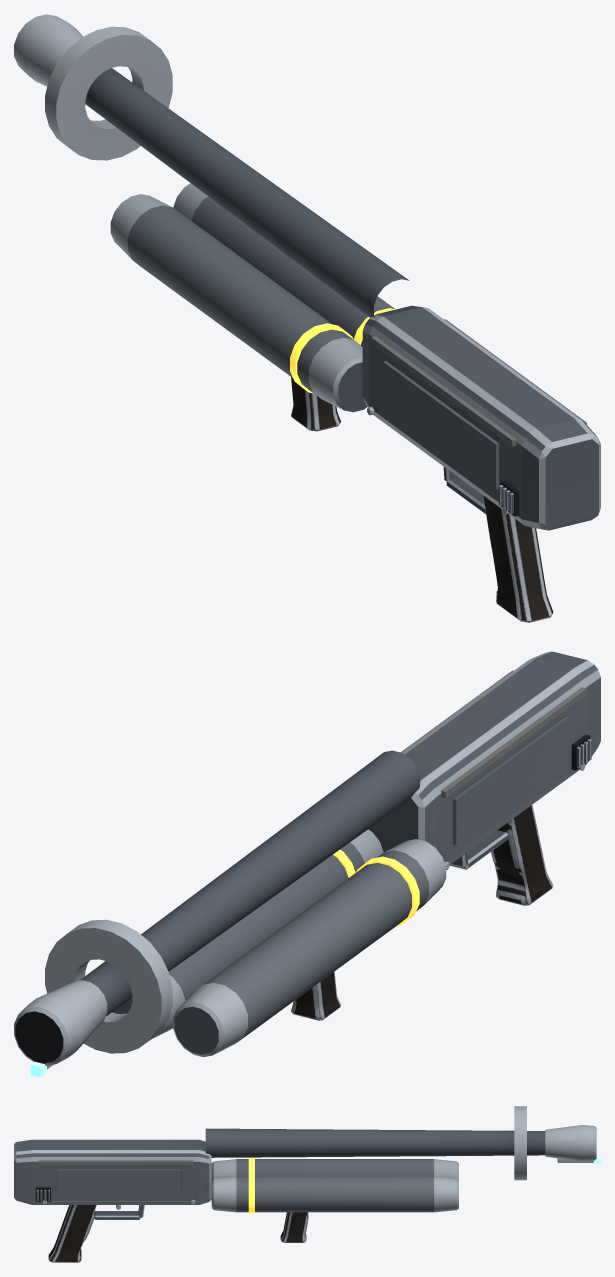
3 renders of one model, top to bottom at view 1: azimuth 30°, elevation 25°; view 2: azimuth 150°, elevation 25°; view 3: azimuth 270°, elevation 25°, orthographic. The views are drawn at different scales.
Parts seen in each view (by area): view 1: body; view 2: body; view 3: body.
Boxes of the visible parts, x1,y1,x2,y2 form: body: (14, 14, 600, 622); body: (14, 651, 600, 1077); body: (14, 1106, 600, 1262).
Bounding box in the file's own units: 0.1268 × 0.2655 × 0.95.
Materials: 1 (1 with a texture image).
